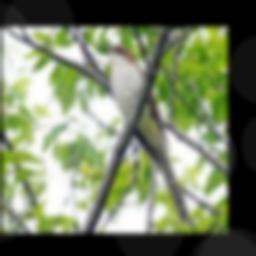Cuckoo: (97, 44, 190, 227)
